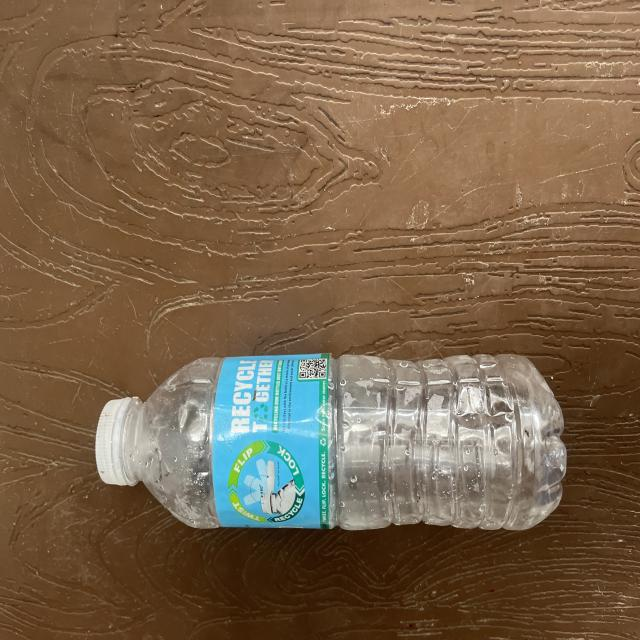REJECT: (92, 326, 560, 538)
